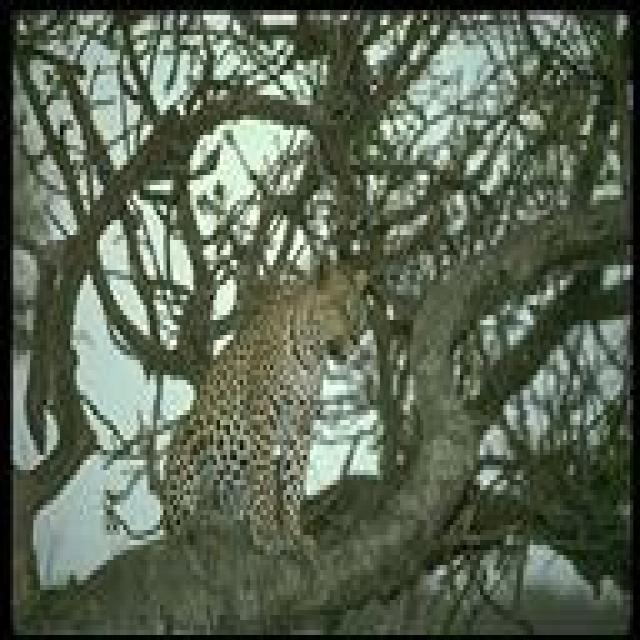Leopard: (162, 252, 370, 548)
